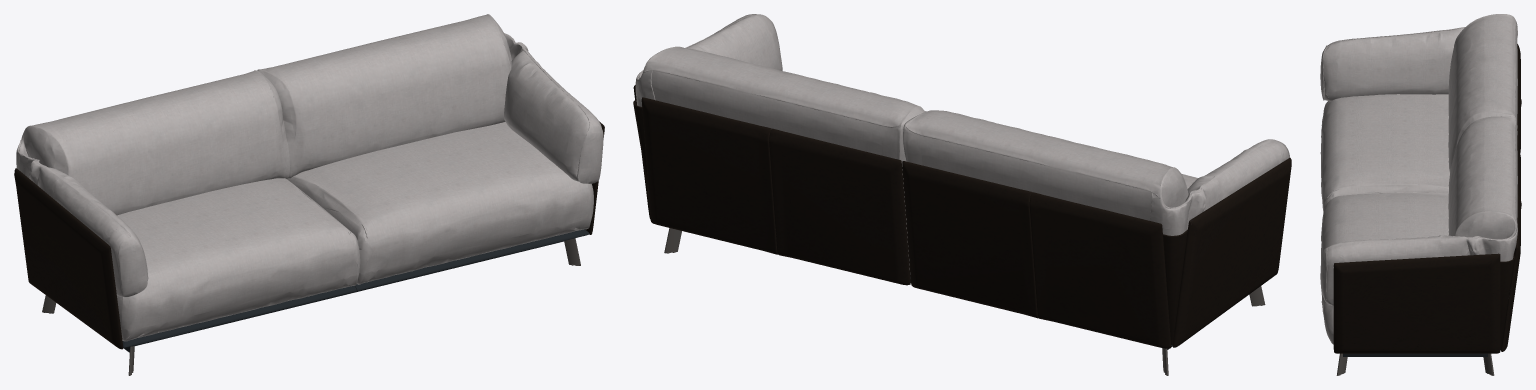
Rendered from kailua.gltf.
3 renders of one model, left to right at view 1: azimuth 30°, elevation 25°; view 2: azimuth 150°, elevation 25°; view 3: azimuth 270°, elevation 25°, orthographic. The views are drawn at different scales.
Parts seen in each view (by area): view 1: Mesh; view 2: Mesh; view 3: Mesh.
Part boxes in pixels (x1,y1,x2,y2): Mesh: (14, 14, 604, 375); Mesh: (633, 14, 1291, 375); Mesh: (1320, 14, 1521, 375).
Size of the model in its own units: 2.37 by 0.8224 by 0.9116.
Materials: 1 (1 with a texture image).
